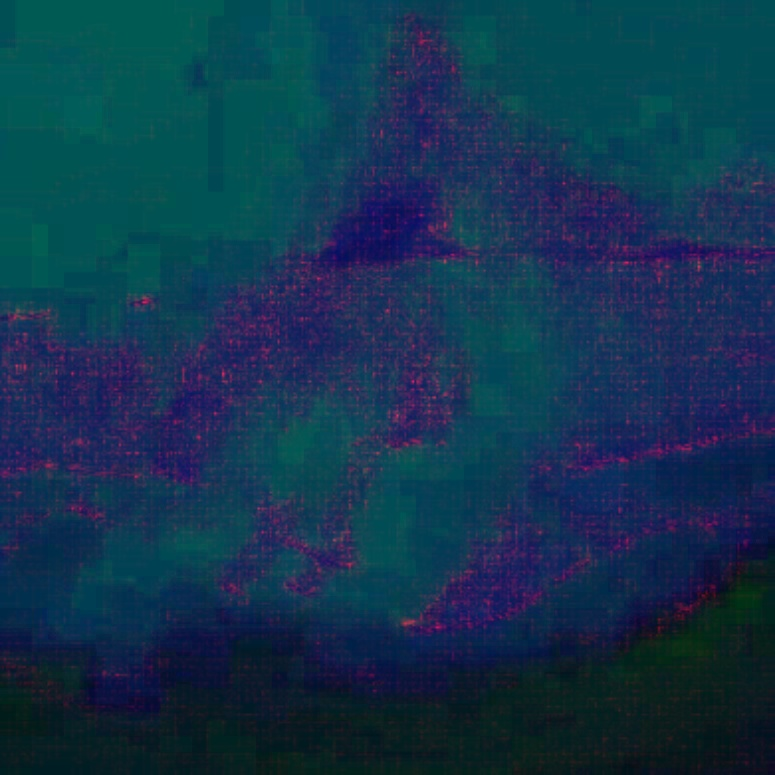rip_current: (283, 144, 593, 682)
